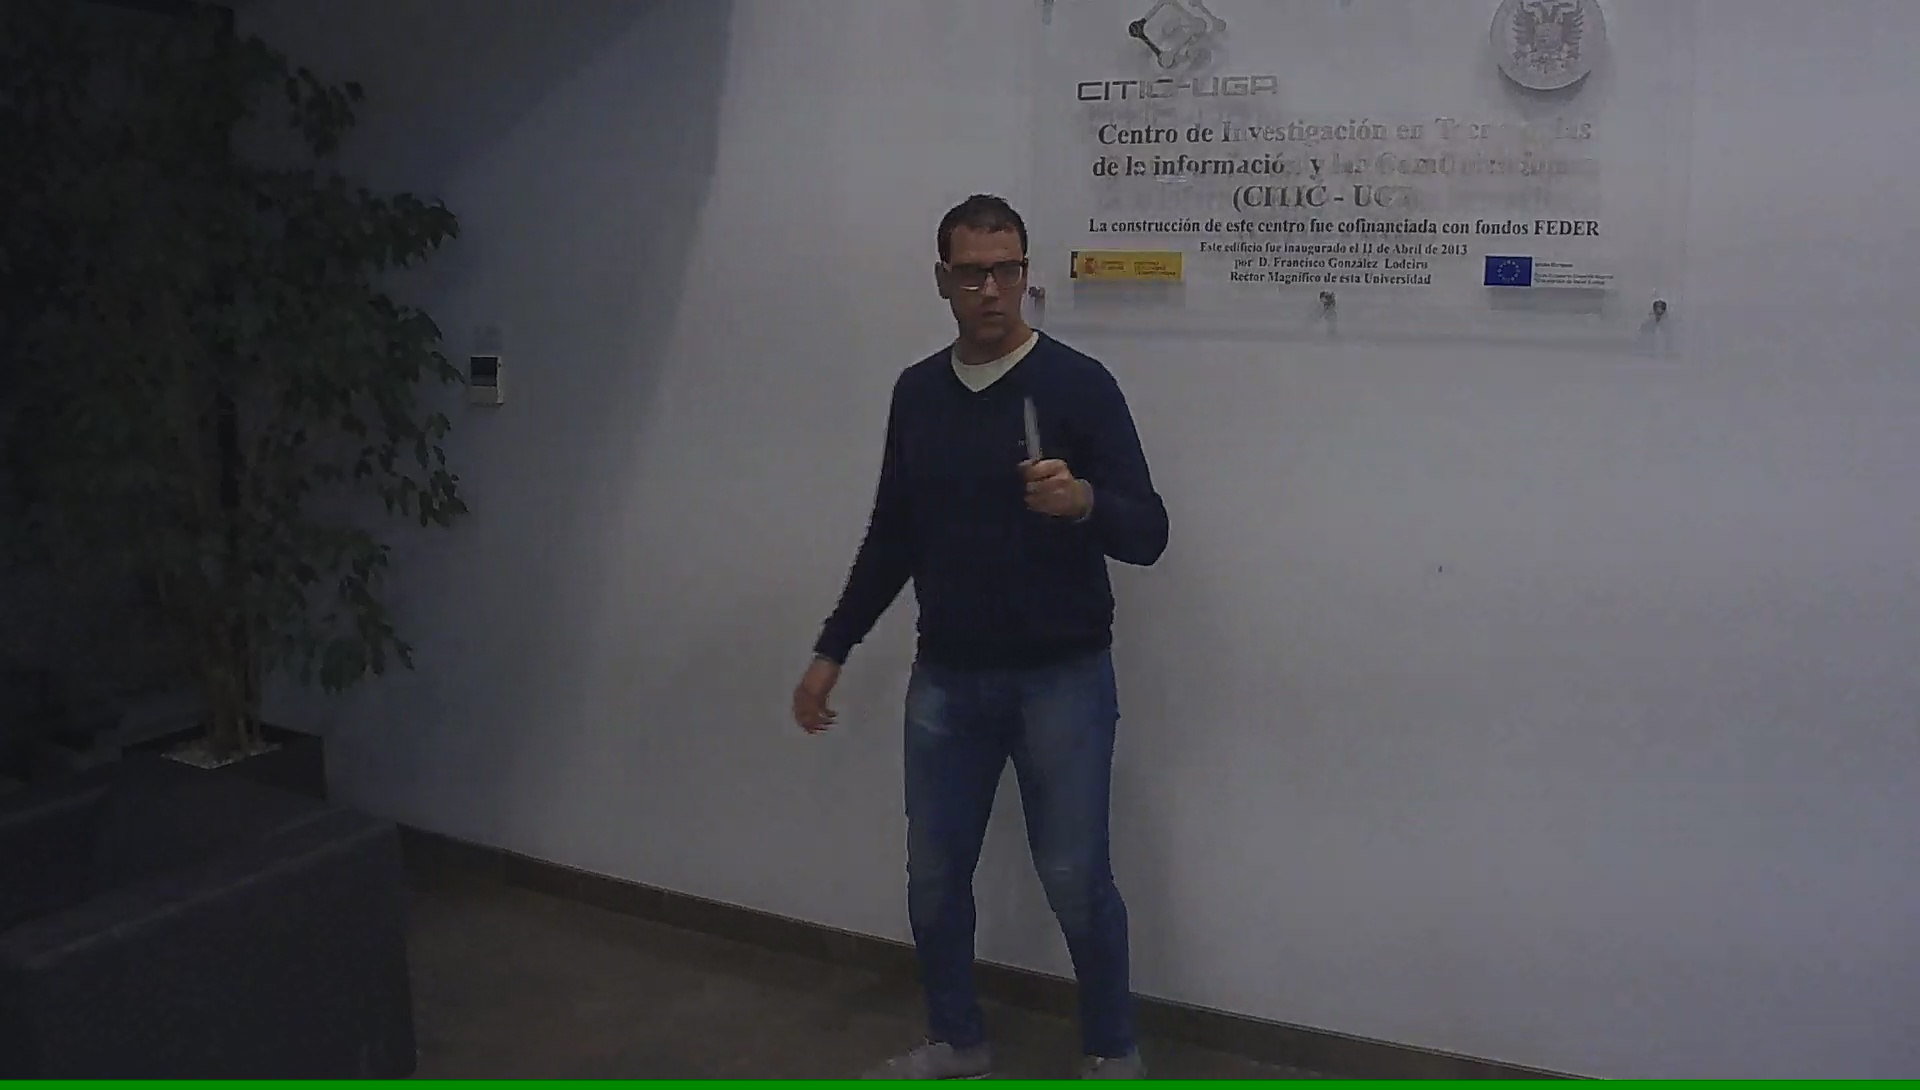knife: (1011, 384, 1065, 521)
